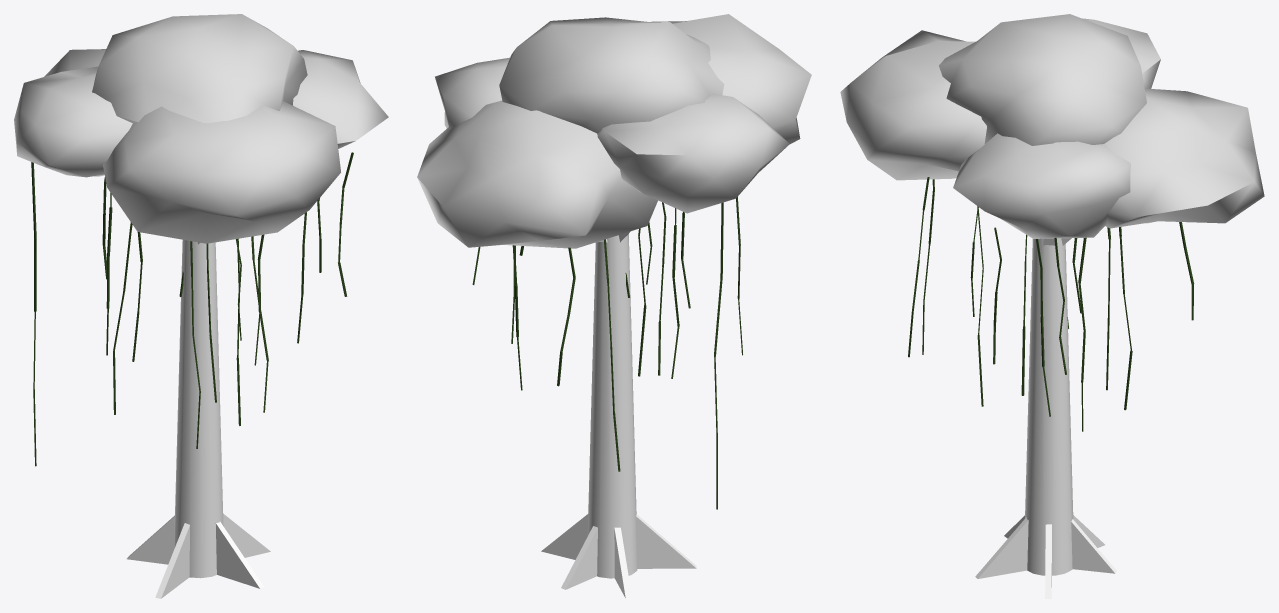
The model's file is jungle_tree_b.glb.
The picture shows the model from 3 angles, left to right: view 1: azimuth 30°, elevation 25°; view 2: azimuth 150°, elevation 25°; view 3: azimuth 270°, elevation 25°; orthographic projection.
Visible parts, largest first — view 1: jungle_tree_b_T_foliage, jungle_tree_b_T_bark, jungle_tree_b_M_Vine; view 2: jungle_tree_b_T_foliage, jungle_tree_b_T_bark, jungle_tree_b_M_Vine; view 3: jungle_tree_b_T_foliage, jungle_tree_b_T_bark, jungle_tree_b_M_Vine.
Boxes of the visible parts, box(x1,y1,x2,y2) form: jungle_tree_b_T_foliage: box(14, 14, 388, 243); jungle_tree_b_T_bark: box(127, 240, 270, 598); jungle_tree_b_M_Vine: box(31, 152, 353, 466); jungle_tree_b_T_foliage: box(417, 14, 811, 248); jungle_tree_b_T_bark: box(541, 231, 696, 598); jungle_tree_b_M_Vine: box(472, 197, 742, 509); jungle_tree_b_T_foliage: box(840, 14, 1264, 238); jungle_tree_b_T_bark: box(975, 238, 1116, 598); jungle_tree_b_M_Vine: box(908, 177, 1194, 431).
Size of the model in its own units: 14.59 by 22.75 by 16.47.
